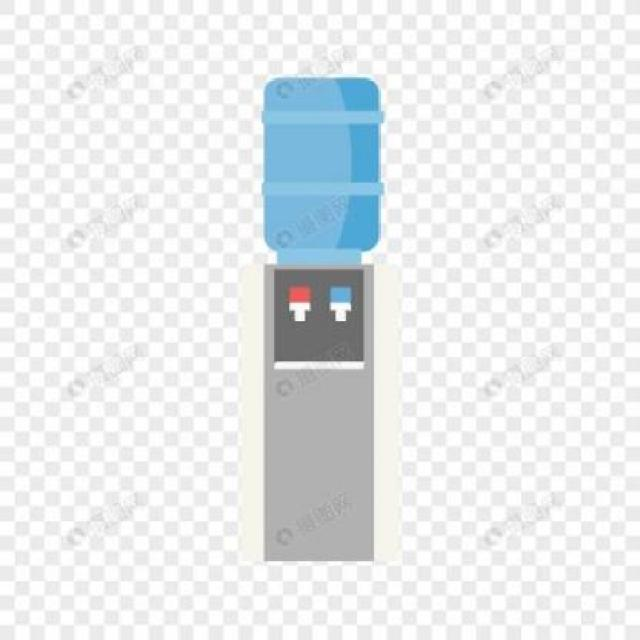cooler: (239, 76, 403, 564)
